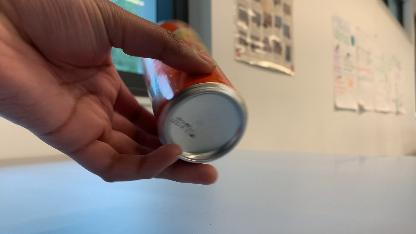Can: (144, 53, 256, 169)
